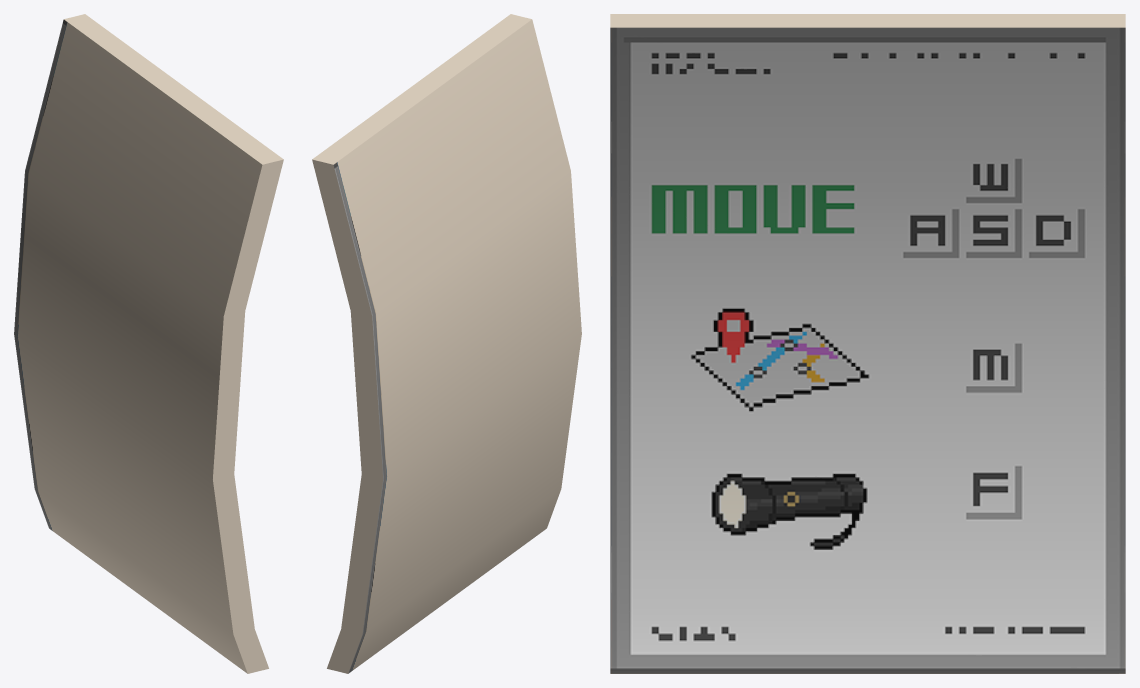
Rendered from wall_teach.fbx.
The picture shows the model from 3 angles, left to right: view 1: azimuth 30°, elevation 25°; view 2: azimuth 150°, elevation 25°; view 3: azimuth 270°, elevation 25°; orthographic projection. The views are drawn at different scales.
Parts seen in each view (by area): view 1: Cylinder.001; view 2: Cylinder.001; view 3: Cylinder.001.
Part boxes in pixels (x1,y1,x2,y2): Cylinder.001: (14, 14, 283, 673); Cylinder.001: (312, 14, 581, 673); Cylinder.001: (610, 14, 1125, 673).
Bounding box in the file's own units: 19.82 × 135 × 95.94.
